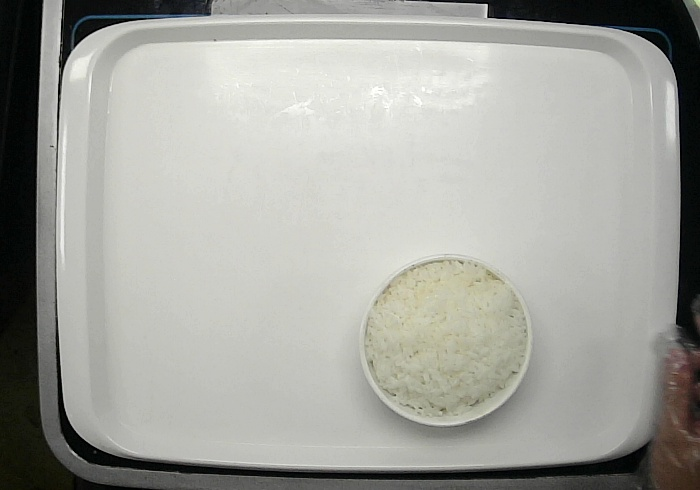HZYJPL-Fan_Wan: (358, 253, 531, 429)
